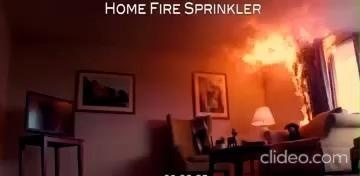fire: (234, 21, 307, 77)
